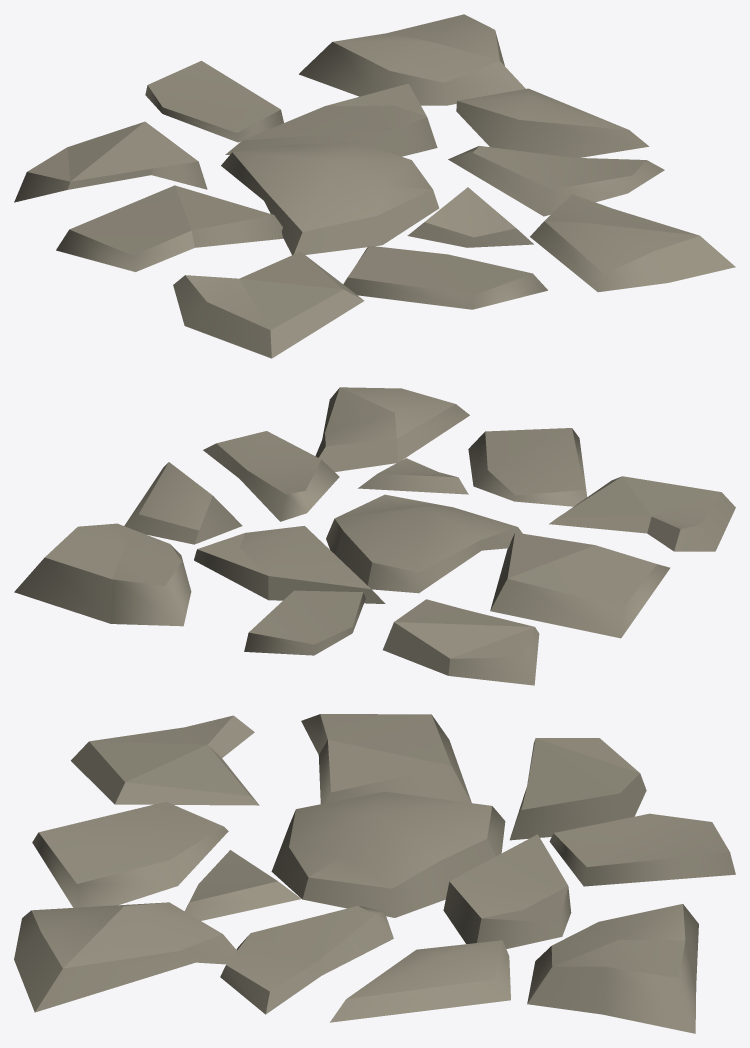
Rendered from Stones_1.glb.
3 renders of one model, top to bottom at view 1: azimuth 30°, elevation 25°; view 2: azimuth 150°, elevation 25°; view 3: azimuth 270°, elevation 25°, orthographic. The views are drawn at different scales.
Visible parts, largest first — view 1: Stones_1; view 2: Stones_1; view 3: Stones_1.
Part boxes in pixels (x1,y1,x2,y2): Stones_1: (14,14,735,358); Stones_1: (14,387,735,685); Stones_1: (14,714,735,1033).
Bounding box in the file's own units: 1.38 × 0.1562 × 1.43.
